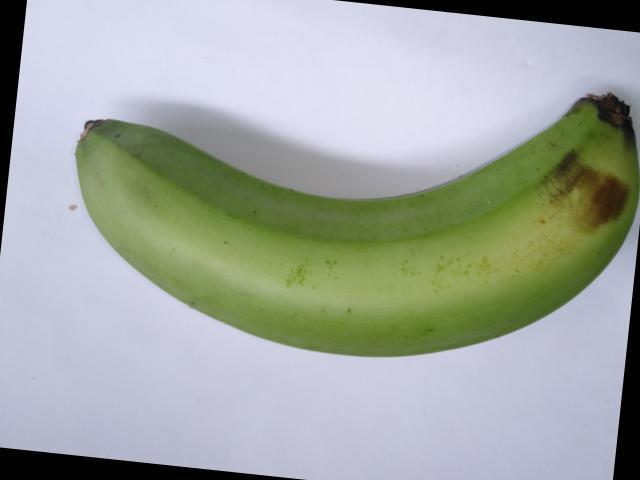freshunripe: (60, 72, 639, 380)
